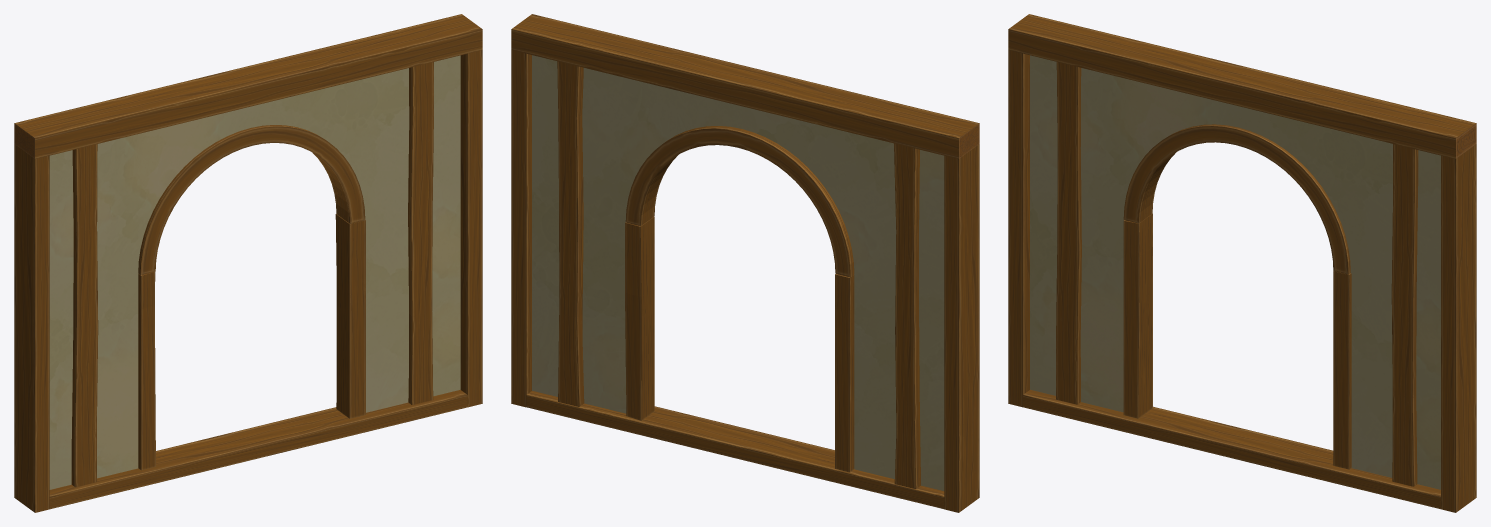
File: SM_House_Wall_5x4_Door_E_02.fbx
The picture shows the model from 3 angles, left to right: view 1: azimuth 30°, elevation 25°; view 2: azimuth 150°, elevation 25°; view 3: azimuth 330°, elevation 25°; orthographic projection.
Parts seen in each view (by area): view 1: SM_House_Wall_5x4_Door_E_02; view 2: SM_House_Wall_5x4_Door_E_02; view 3: SM_House_Wall_5x4_Door_E_02.
Part boxes in pixels (box(x1,y1,x2,y2)): SM_House_Wall_5x4_Door_E_02: box(14, 14, 482, 512); SM_House_Wall_5x4_Door_E_02: box(511, 14, 979, 512); SM_House_Wall_5x4_Door_E_02: box(1008, 14, 1476, 512).
Size of the model in its own units: 5 by 4 by 0.4004.
